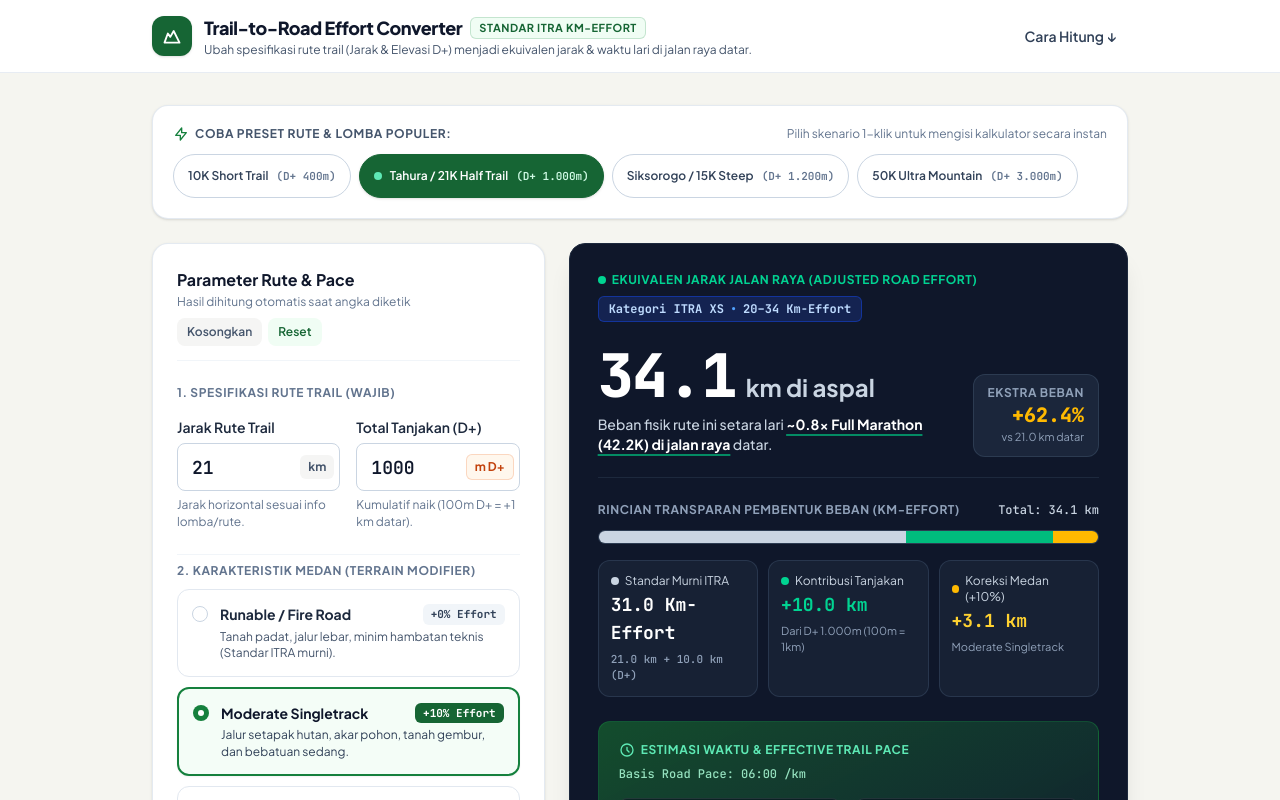
App UI Integration — Reactive Calculator & System States › transitions to Empty State when clicking Kosongkan and restores default on Reset
What coordinates should you click on to do the following:
click the button "Kosongkan"
I would click on:
 (220, 332)
Its box is [177,318,262,346].
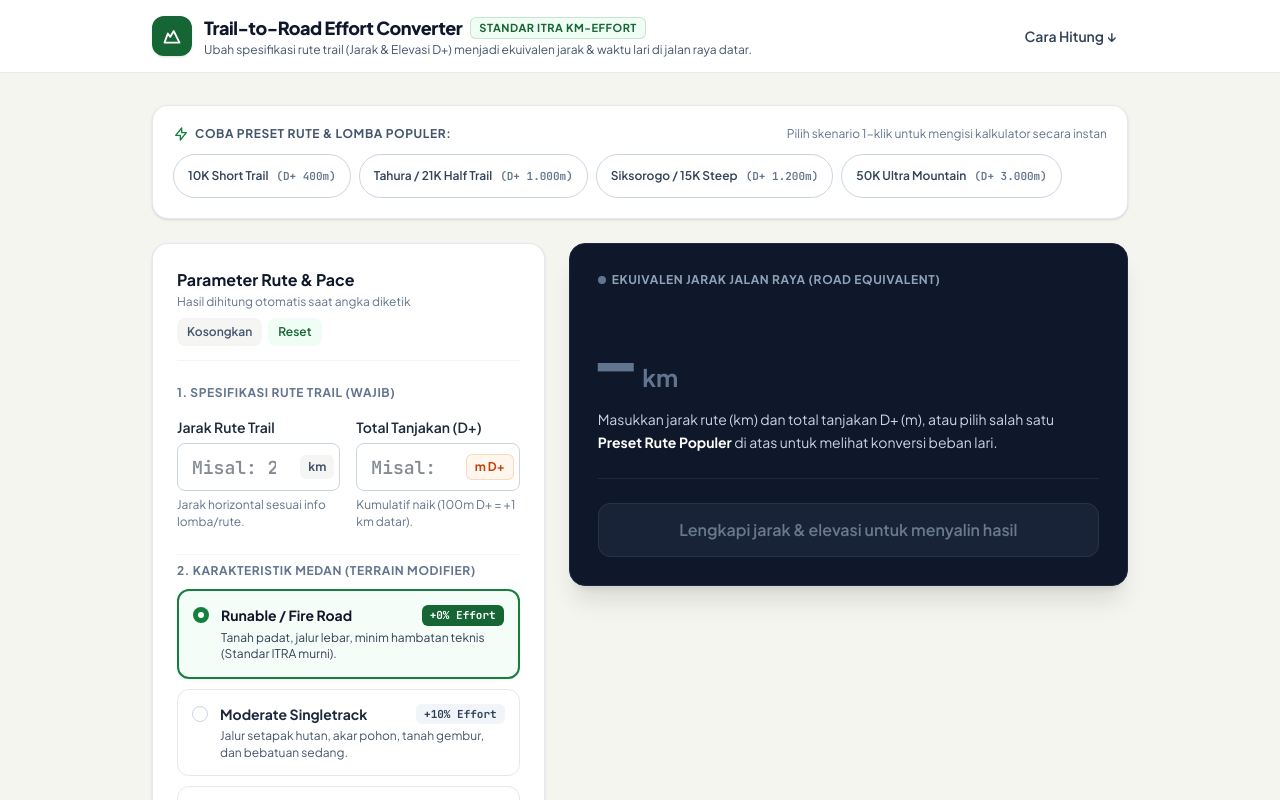
Expected: the button "Lengkapi jarak & elevasi untuk menyalin hasil" is disabled, [598,502,1099,556]
What coordinates should you click on to do the following:
click the button "Reset"
I would click on:
 (295, 332)
Its box is [268,318,322,346].
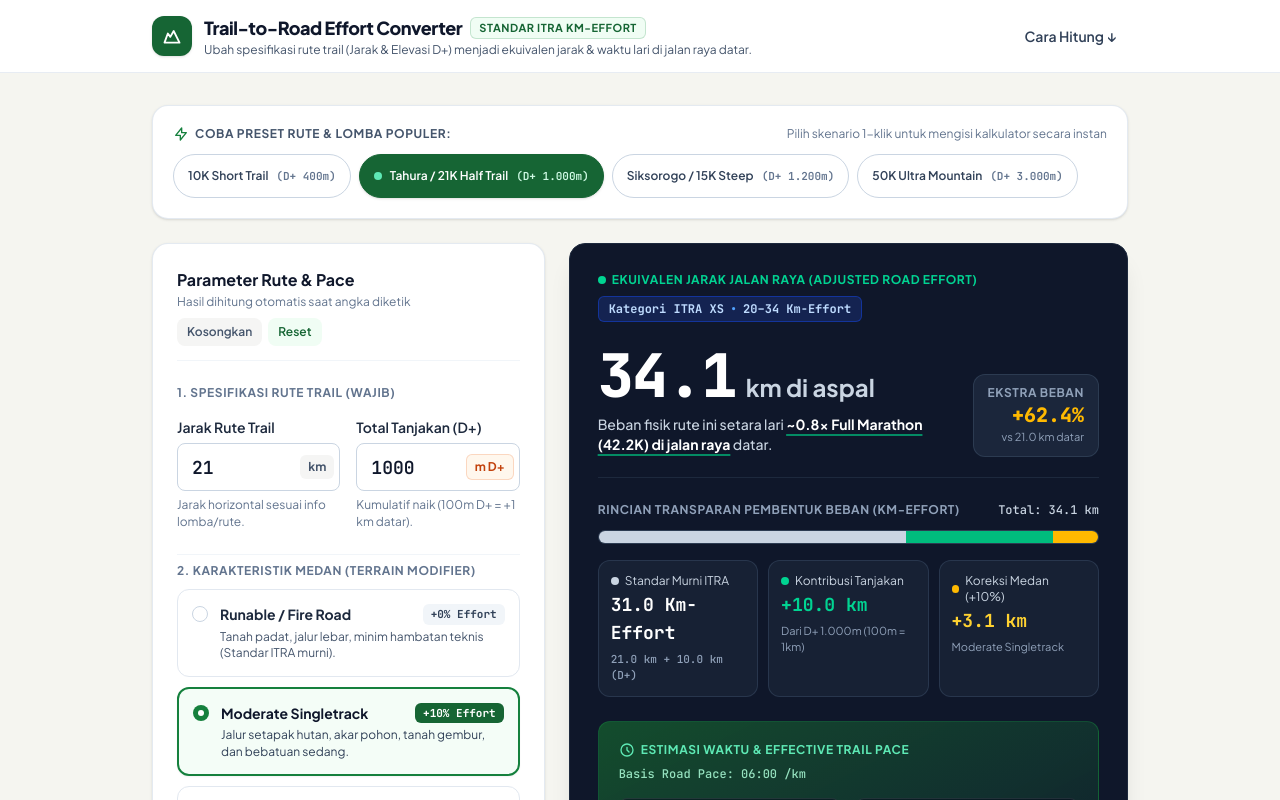
Expected: the text with test id "hero-adjusted-km" reads "34.1", [598,336,736,415]
